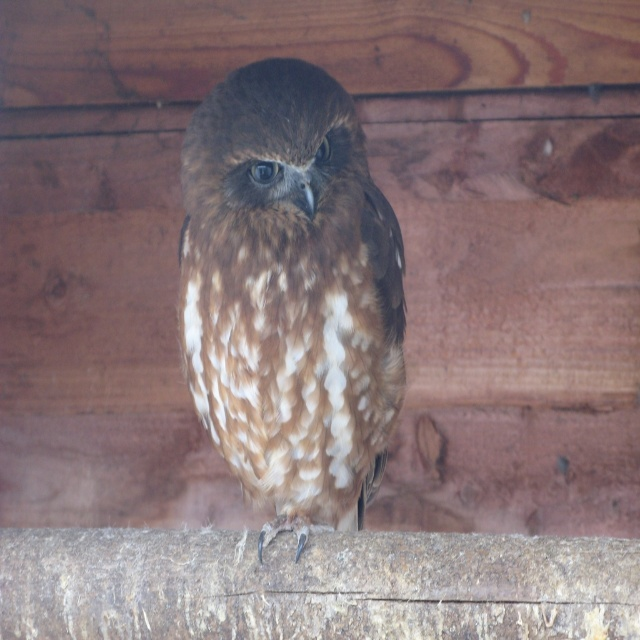Owl: (182, 59, 411, 563)
